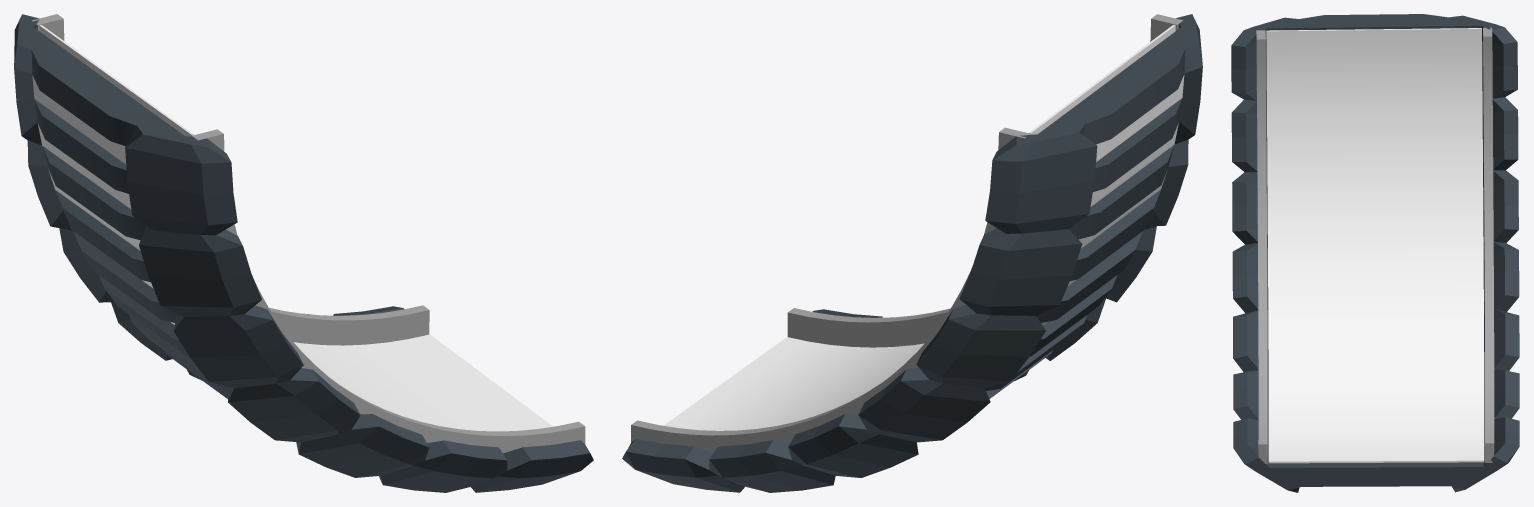
The picture shows the model from 3 angles, left to right: view 1: azimuth 30°, elevation 25°; view 2: azimuth 150°, elevation 25°; view 3: azimuth 270°, elevation 25°; orthographic projection. The views are drawn at different scales.
Visible parts, largest first — view 1: Track23, Ground, Rail; view 2: Track23, Ground, Rail; view 3: Ground, Track23, Rail.
Boxes of the visible parts, x1=… form: Track23: x1=14, y1=14, x2=593, y2=492; Ground: x1=39, y1=25, x2=552, y2=431; Rail: x1=32, y1=14, x2=585, y2=453; Track23: x1=622, y1=14, x2=1202, y2=492; Ground: x1=664, y1=24, x2=1175, y2=430; Rail: x1=631, y1=14, x2=1182, y2=452; Ground: x1=1266, y1=28, x2=1484, y2=463; Track23: x1=1231, y1=14, x2=1519, y2=492; Rail: x1=1256, y1=27, x2=1494, y2=463.
Size of the model in its own units: 95.31 by 95.26 by 74.99.
3 materials, 2 textured.
